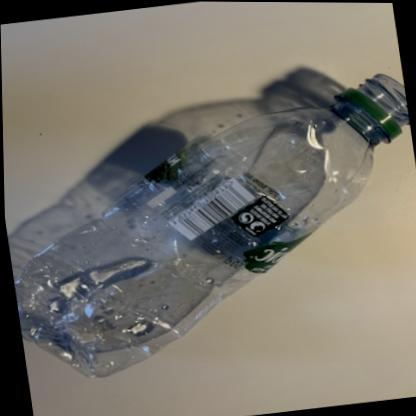Plastic: (6, 68, 409, 377)
